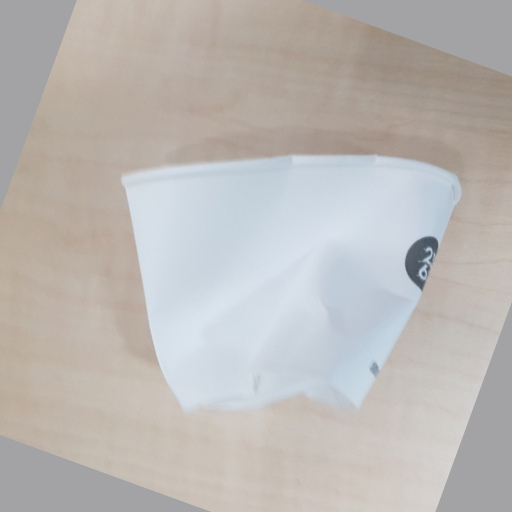Paper_1: (116, 155, 464, 407)
